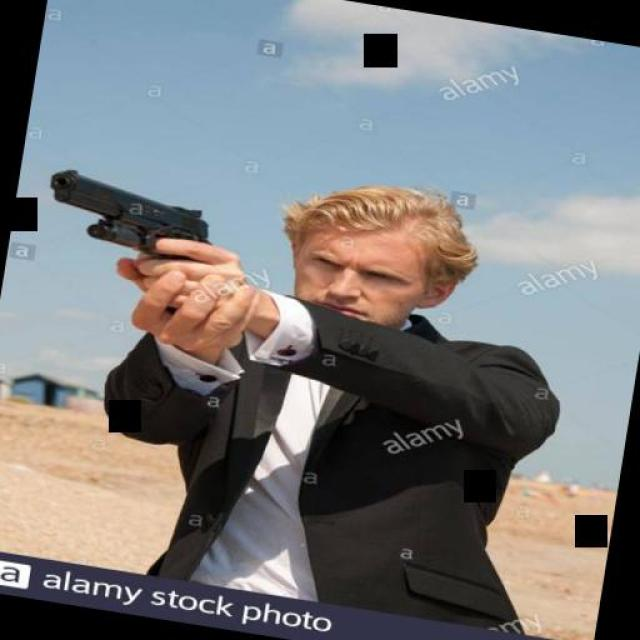gun: (38, 164, 234, 274)
